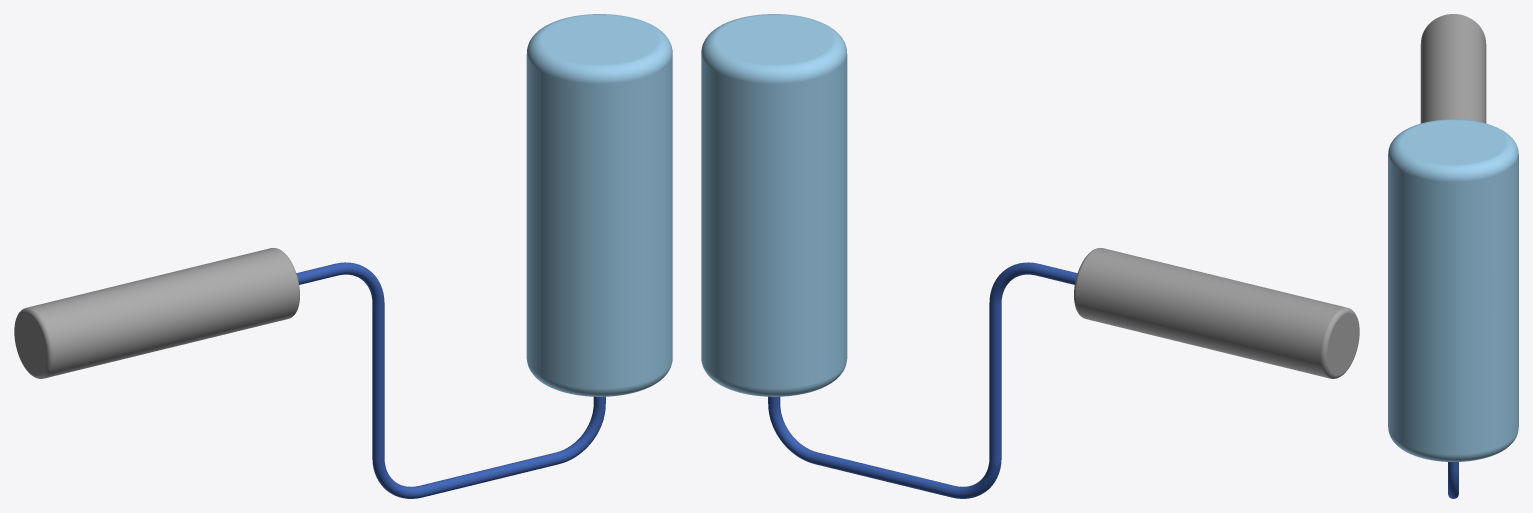
The model's file is roller.obj.
The picture shows the model from 3 angles, left to right: view 1: azimuth 30°, elevation 25°; view 2: azimuth 150°, elevation 25°; view 3: azimuth 270°, elevation 25°; orthographic projection. The views are drawn at different scales.
Parts seen in each view (by area): view 1: mesh11, mesh16, mesh13, mesh12, mesh3, mesh5, mesh18, mesh10, mesh6, mesh4, mesh2, mesh17; view 2: mesh11, mesh16, mesh13, mesh12, mesh3, mesh5, mesh18, mesh10, mesh6, mesh4, mesh2, mesh17; view 3: mesh11, mesh16, mesh13, mesh12, mesh10, mesh6.
Boxes of the visible parts, box(x1,y1,x2,y2) form: mesh11: box(526, 55, 672, 388); mesh16: box(28, 248, 297, 378); mesh13: box(541, 15, 657, 64); mesh12: box(526, 14, 672, 83); mesh3: box(372, 304, 384, 460); mesh5: box(420, 452, 560, 497); mesh18: box(15, 313, 46, 375); mesh10: box(527, 360, 672, 396); mesh6: box(557, 405, 605, 463); mesh4: box(372, 458, 423, 498); mesh2: box(336, 262, 384, 305); mesh17: box(14, 307, 53, 378); mesh11: box(701, 55, 847, 388); mesh16: box(1076, 248, 1345, 378); mesh13: box(716, 15, 832, 64); mesh12: box(701, 14, 847, 83); mesh3: box(989, 304, 1001, 460); mesh5: box(813, 452, 953, 497); mesh18: box(1327, 313, 1358, 375); mesh10: box(701, 360, 846, 396); mesh6: box(768, 405, 816, 463); mesh4: box(950, 458, 1001, 498); mesh2: box(989, 262, 1037, 305); mesh17: box(1320, 307, 1359, 378); mesh11: box(1388, 155, 1518, 454); mesh16: box(1420, 14, 1486, 123); mesh13: box(1401, 120, 1505, 164); mesh12: box(1388, 119, 1518, 181); mesh10: box(1388, 430, 1518, 461); mesh6: box(1448, 469, 1458, 498).
Bounding box in the file's own units: 0.3 × 0.1875 × 0.06.
